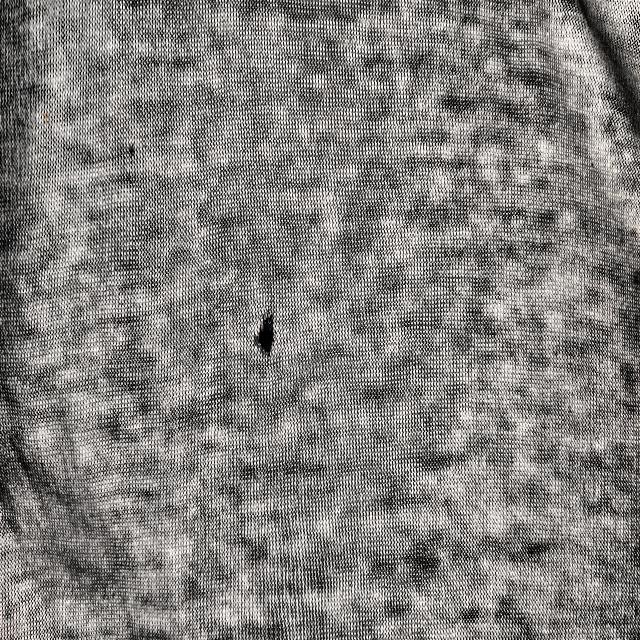Hole: (253, 299, 282, 372)
